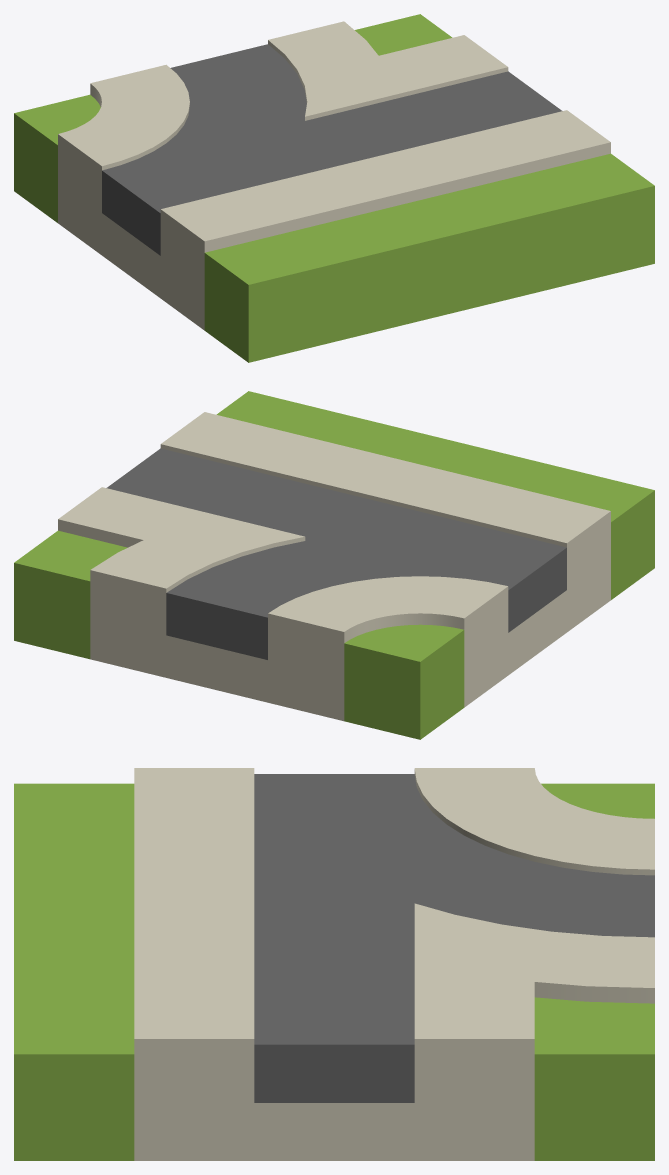
File: tile042.fbx
3 renders of one model, top to bottom at view 1: azimuth 30°, elevation 25°; view 2: azimuth 150°, elevation 25°; view 3: azimuth 270°, elevation 25°, orthographic. The views are drawn at different scales.
Parts seen in each view (by area): view 1: tile042; view 2: tile042; view 3: tile042.
Boxes of the visible parts, <box> form: tile042: <box>14,14,654,362</box>; tile042: <box>14,391,654,739</box>; tile042: <box>14,768,654,1160</box>.
Size of the model in its own units: 10 by 2.1 by 10.
